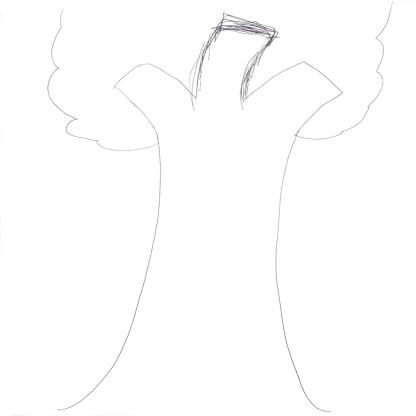branch_cut: (114, 6, 348, 118)
crown_cloud: (43, 0, 393, 151)
trunk_straight: (129, 186, 292, 316)
